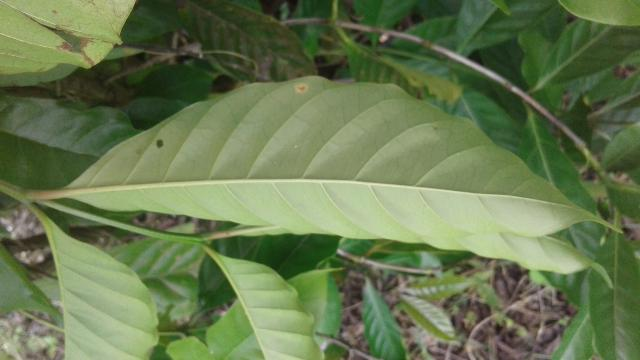rust_level_1: (58, 78, 621, 242)
